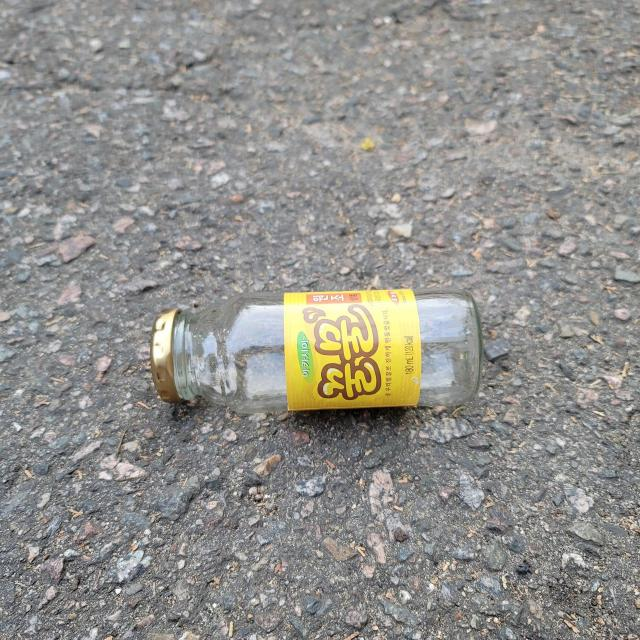glass: (151, 288, 483, 413)
